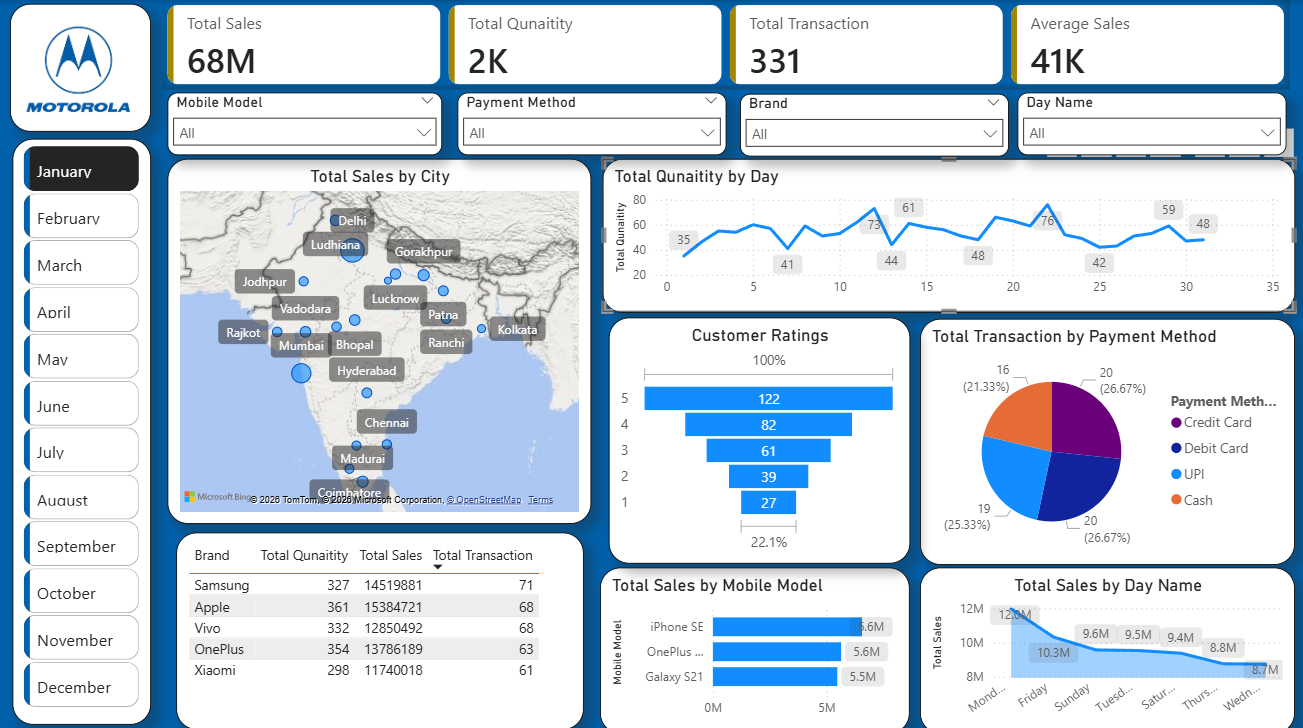

Layout of this report page (visuals, bound fields, positions):
{"tool":"powerbi","page":{"name":"Page 1","canvas":[1280,720],"ordinal":0},"visuals":[{"type":"shape","box":[9.9,3.7,138.3,125.9],"z":0},{"type":"shape","box":[12.3,135.8,135.8,575.3],"z":1000},{"type":"advancedSlicerVisual","fields":{"Values":["Sales.Date.Variation.Date Hierarchy.Month"]},"box":[23.5,143.2,113.6,560.5],"z":2000},{"type":"cardVisual","fields":{"Data":["Sales.Total Sales","Sales.Total Qunaitity","Sales.Total Transaction","Sales.Average"]},"box":[159.5,0,1106.8,88.3],"z":3000},{"type":"map","fields":{"Category":["Sales.City"],"Size":["Sales.Total Sales"]},"box":[164.4,155.8,416,358.3],"z":4000},{"type":"lineChart","fields":{"Category":["Sales.Date.Variation.Date Hierarchy.Month","Sales.Date.Variation.Date Hierarchy.Day"],"Y":["Sales.Total Qunaitity"]},"box":[591.4,155.8,679.8,150.9],"z":5000},{"type":"clusteredBarChart","fields":{"Category":["Sales.Mobile Model"],"Y":["Sales.Total Sales"]},"box":[589,557.1,304.3,163.2],"z":6000},{"type":"pieChart","fields":{"Y":["Sales.Total Transaction"],"Category":["Sales.Payment Method"]},"box":[903.1,312.9,368.1,241.7],"z":7000},{"type":"funnel","title":"Customer Ratings ","fields":{"Category":["Sales.Customer Ratings"],"Y":["CountNonNull(Sales.Customer Ratings)"]},"box":[597.5,311.7,295.7,241.7],"z":8000},{"type":"areaChart","fields":{"Y":["Sales.Total Sales"],"Category":["Sales.Day Name"]},"box":[903.1,557.1,368.1,163.2],"z":9000},{"type":"tableEx","fields":{"Values":["Sales.Brand","Sales.Total Qunaitity","Sales.Total Sales","Sales.Total Transaction"]},"box":[173,522.7,400,193.9],"z":10000},{"type":"slicer","fields":{"Values":["Sales.Mobile Model"]},"box":[164.4,90.8,269.9,61.4],"z":11000},{"type":"slicer","fields":{"Values":["Sales.Payment Method"]},"box":[449.1,90.8,263.8,61.4],"z":12000},{"type":"slicer","fields":{"Values":["Sales.Brand"]},"box":[726.4,92,263.8,61.4],"z":13000},{"type":"slicer","fields":{"Values":["Sales.Day Name"]},"box":[998.8,90.8,263.8,61.4],"z":14000},{"type":"image","box":[19.6,17.2,114.1,101.8],"z":15000}]}

Visuals, with their boxes in screenshot pixels (x1, y1, x2, y2), scaled from the page's 1280x720 canvas onto the 1303x728 screenshot:
shape: crop(10, 4, 151, 131)
shape: crop(13, 137, 151, 719)
advancedSlicerVisual - Sales.Date.Variation.Date Hierarchy.Month: crop(24, 145, 140, 712)
cardVisual - Sales.Total Sales x Sales.Total Qunaitity: crop(162, 0, 1289, 89)
map - Sales.City x Sales.Total Sales: crop(167, 158, 591, 520)
lineChart - Sales.Date.Variation.Date Hierarchy.Month x Sales.Date.Variation.Date Hierarchy.Day: crop(602, 158, 1294, 310)
clusteredBarChart - Sales.Mobile Model x Sales.Total Sales: crop(600, 563, 909, 727)
pieChart - Sales.Total Transaction x Sales.Payment Method: crop(919, 316, 1294, 561)
"Customer Ratings " funnel: crop(608, 315, 909, 560)
areaChart - Sales.Total Sales x Sales.Day Name: crop(919, 563, 1294, 727)
tableEx - Sales.Brand x Sales.Total Qunaitity: crop(176, 529, 583, 725)
slicer - Sales.Mobile Model: crop(167, 92, 442, 154)
slicer - Sales.Payment Method: crop(457, 92, 726, 154)
slicer - Sales.Brand: crop(739, 93, 1008, 155)
slicer - Sales.Day Name: crop(1017, 92, 1285, 154)
image: crop(20, 17, 136, 120)
